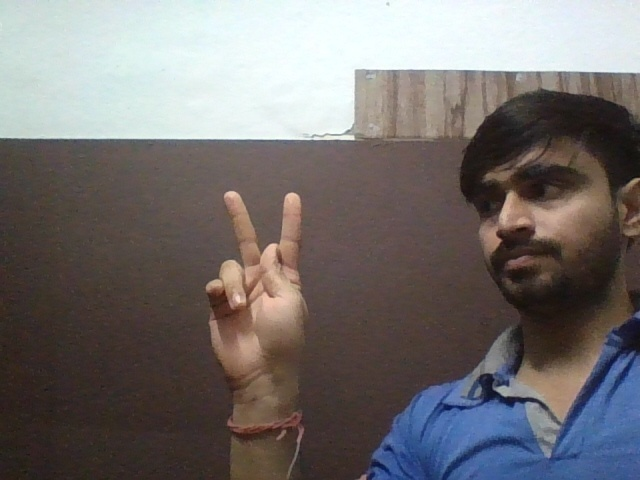K: (185, 180, 323, 396)
